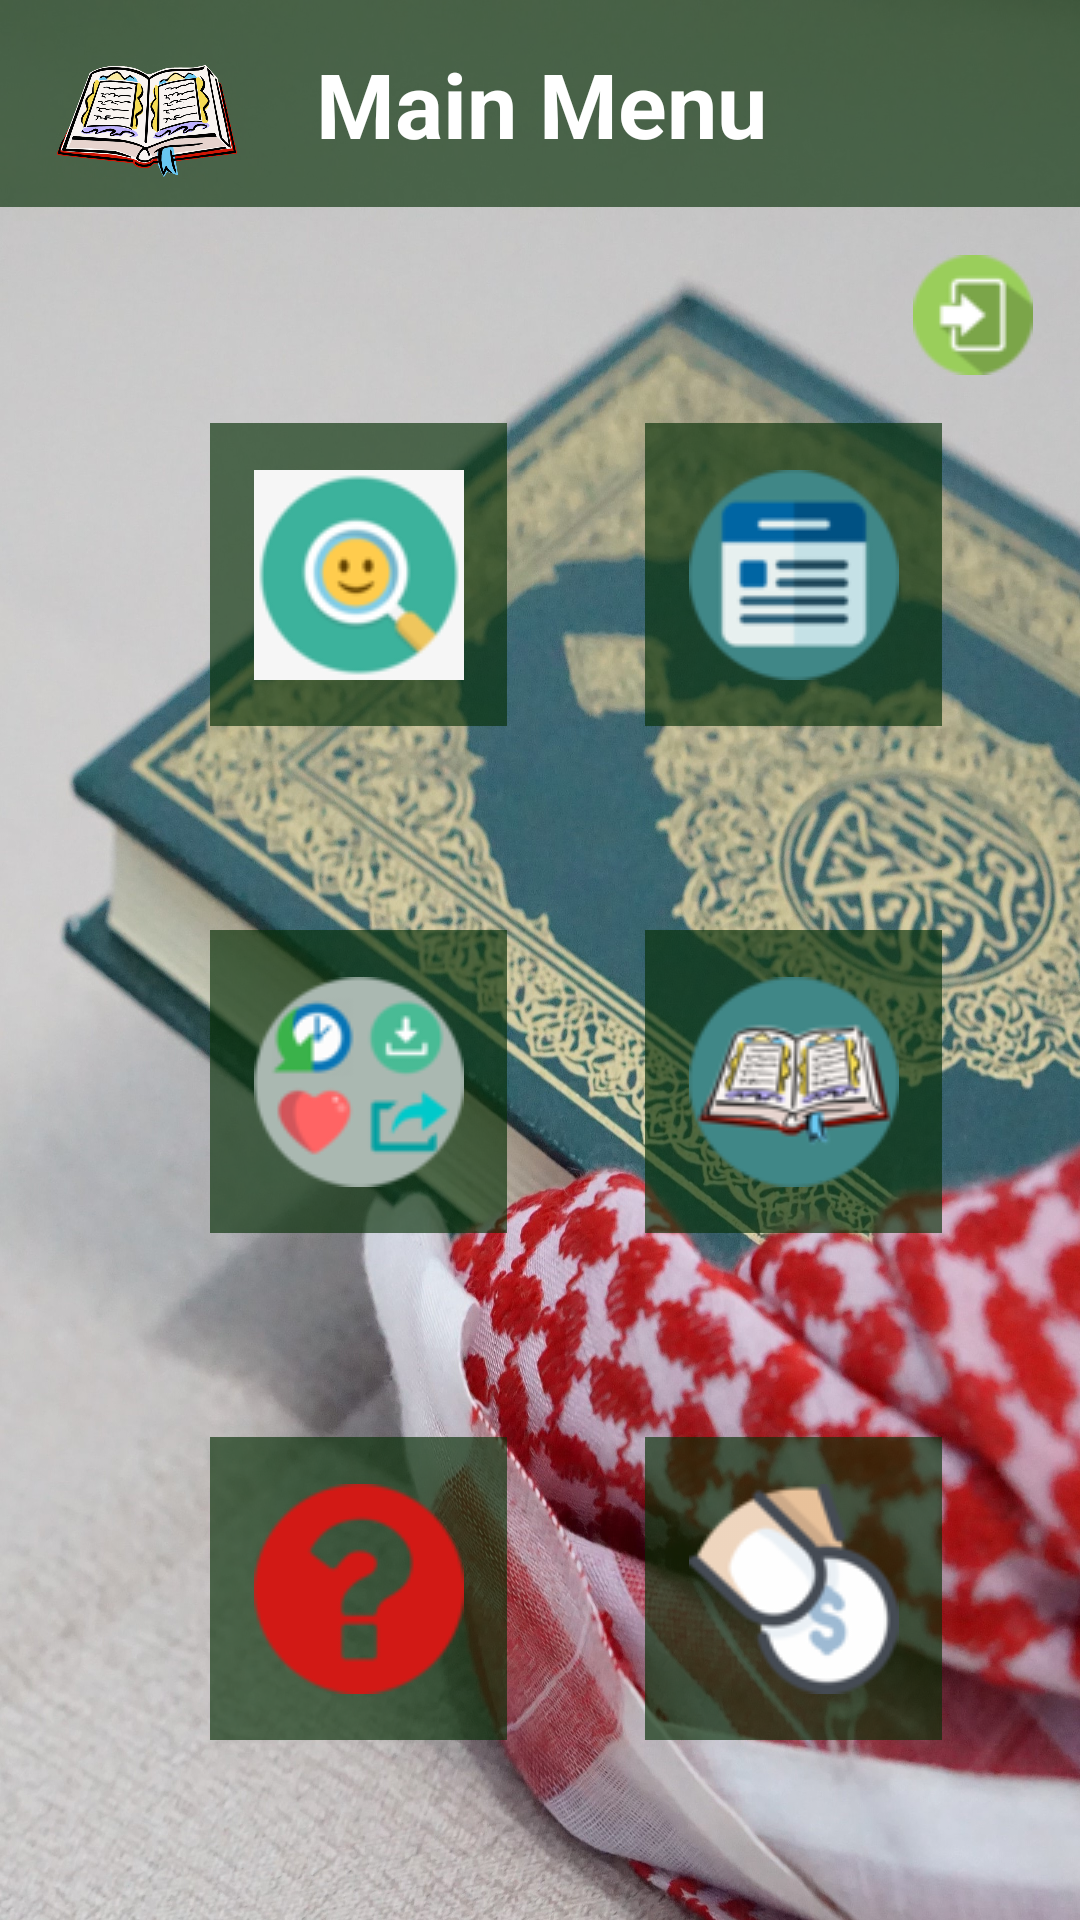

Named icons in this screenshot (1080px×1920px) and their centers, (x=x, y=y):
donate: (x=793, y=1588)
help: (x=358, y=1588)
newsfeed: (x=793, y=574)
search: (x=358, y=574)
